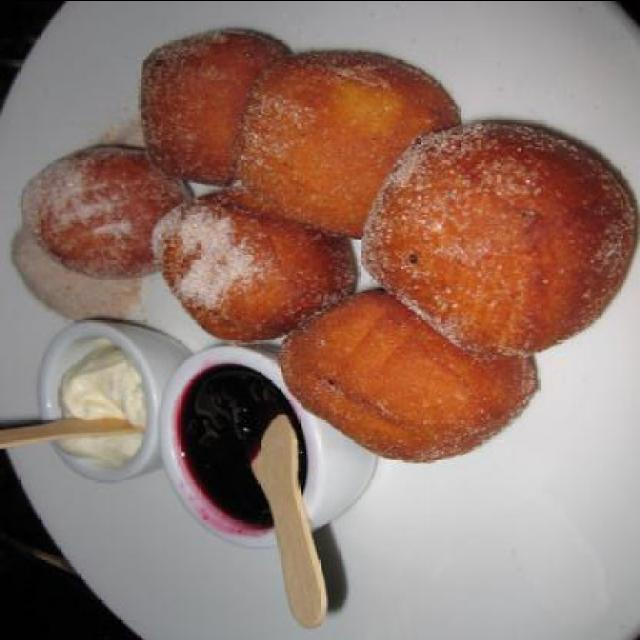Donuts: (29, 18, 638, 454)
